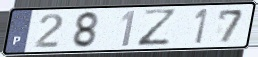1: (120, 9, 137, 48), (193, 8, 210, 46)
2: (33, 12, 65, 49)
7: (216, 8, 245, 44)
8: (71, 10, 102, 49)
Z: (136, 8, 181, 48)
